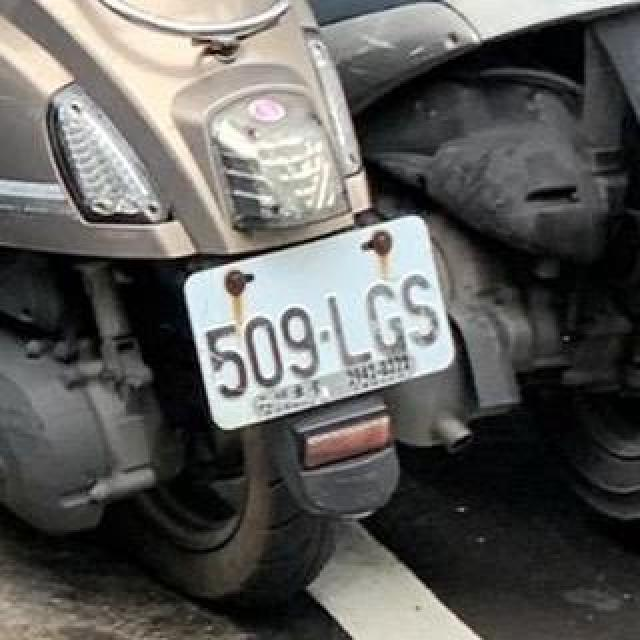W: (166, 194, 478, 442)
